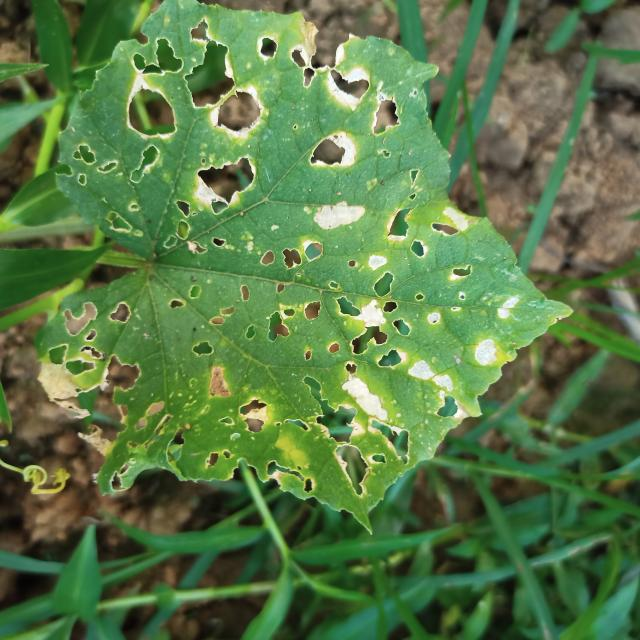disease_cucumber: (43, 37, 504, 468)
